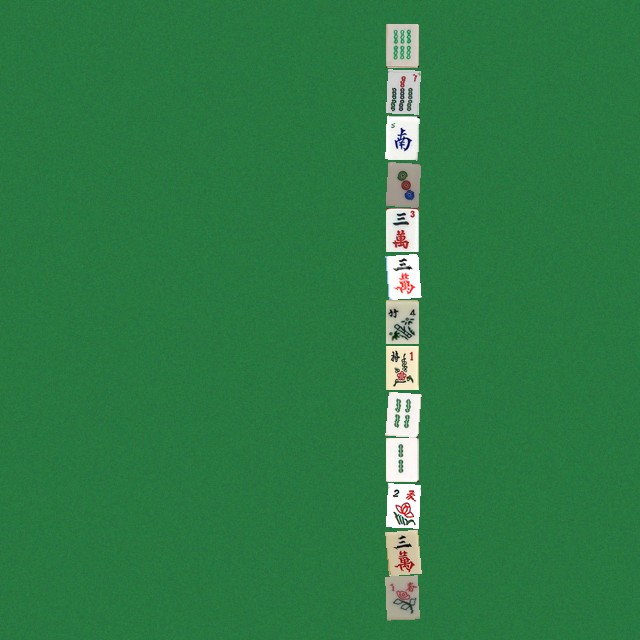tile: (385, 23, 418, 67), (385, 69, 418, 113), (385, 115, 418, 159), (385, 161, 418, 205), (385, 207, 418, 251), (385, 253, 418, 297), (385, 299, 418, 343), (385, 345, 418, 389), (385, 391, 418, 435), (385, 437, 418, 481), (385, 483, 418, 527), (385, 529, 418, 573), (385, 575, 418, 619)
